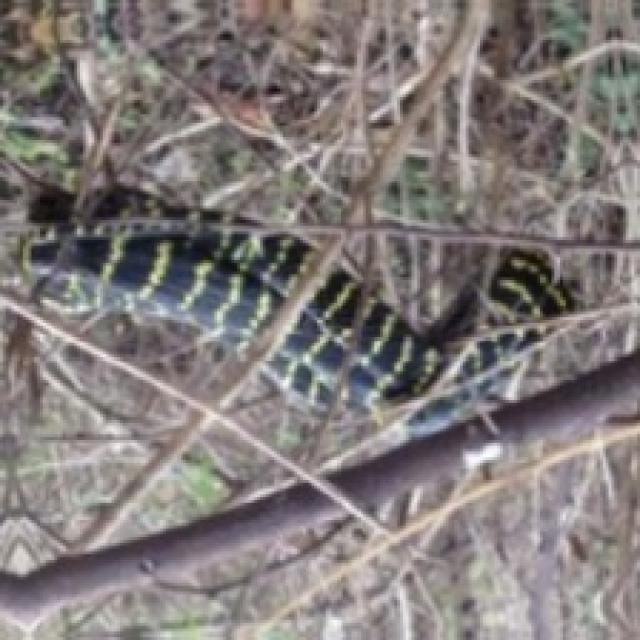mangrove cat snake: (246, 229, 574, 420), (11, 220, 320, 394)
